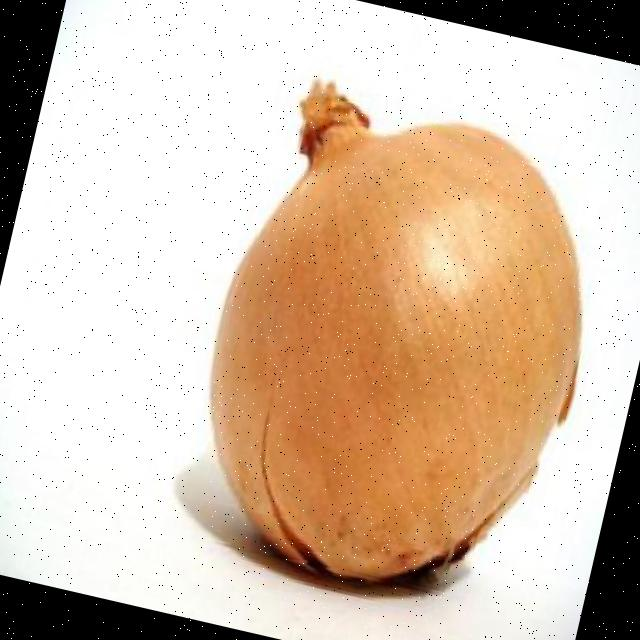Onion: (211, 80, 582, 582)
